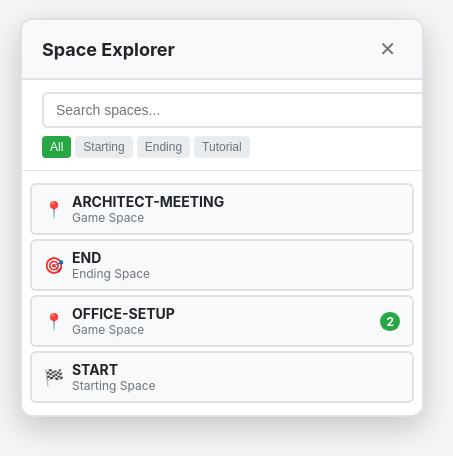
Test case: SpaceExplorerPanel › should filter spaces by search term
Type "OFFICE" into the field with placeholder "Search spaces..." at (236, 110), box [42, 92, 430, 128]
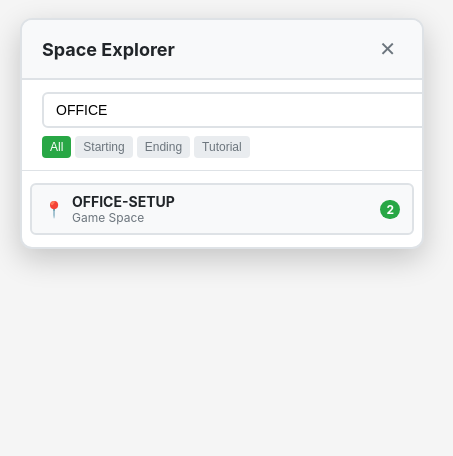
Expected: the text "OFFICE-SETUP" is shown, [72, 193, 175, 210]
Expected: the text "ARCHITECT-MEETING" is gone
